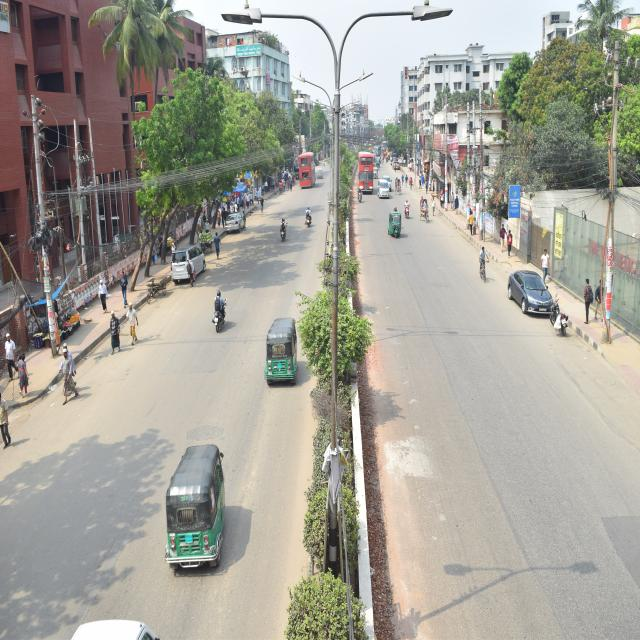bus: (296, 135, 318, 199), (352, 145, 379, 194)
car: (505, 267, 555, 323), (224, 210, 248, 238)
microbus: (167, 240, 208, 285), (377, 176, 393, 206)
motorbike: (542, 291, 574, 342), (208, 284, 233, 333), (276, 210, 291, 244), (403, 198, 414, 220), (305, 206, 314, 230)
